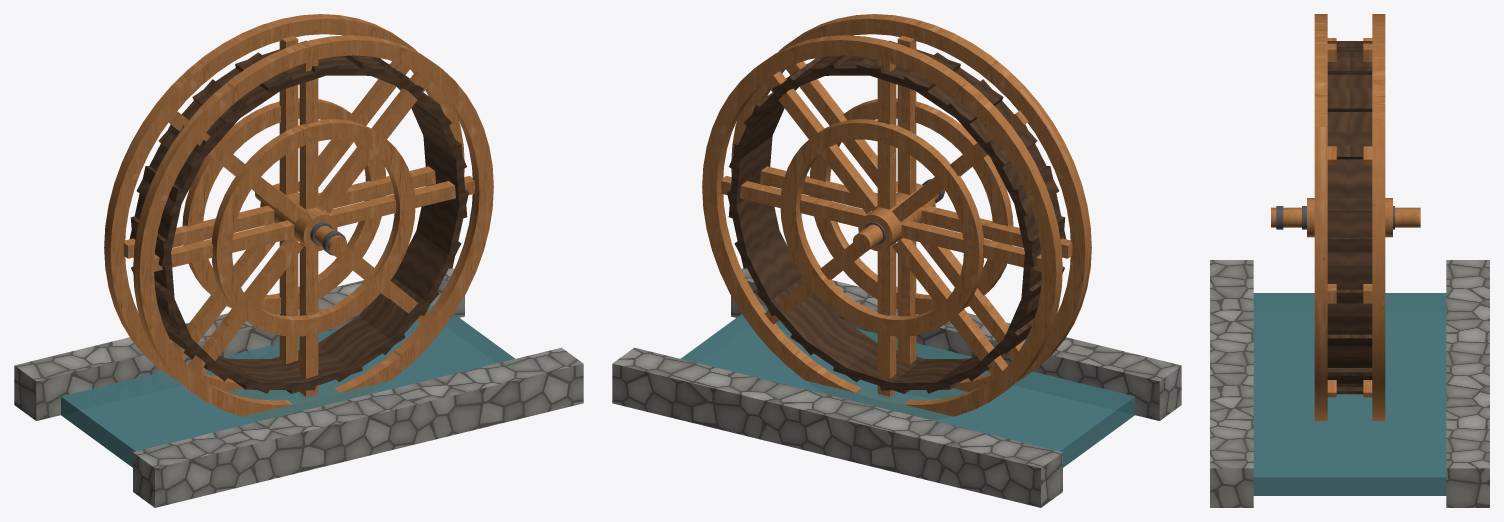
Rendered from misc_water_wheel.glb.
3 renders of one model, left to right at view 1: azimuth 30°, elevation 25°; view 2: azimuth 150°, elevation 25°; view 3: azimuth 270°, elevation 25°, orthographic.
Visible parts, largest first — view 1: water_wheel, mill_water_channel; view 2: water_wheel, mill_water_channel; view 3: mill_water_channel, water_wheel.
Boxes of the visible parts, x1,y1,x2,y2 form: water_wheel: (104, 14, 493, 416); mill_water_channel: (14, 268, 583, 507); water_wheel: (702, 14, 1091, 416); mill_water_channel: (612, 268, 1181, 507); mill_water_channel: (1210, 260, 1489, 507); water_wheel: (1271, 14, 1420, 421).
Size of the model in its own units: 3.84 by 3.19 by 2.18.
5 materials, 3 textured.
